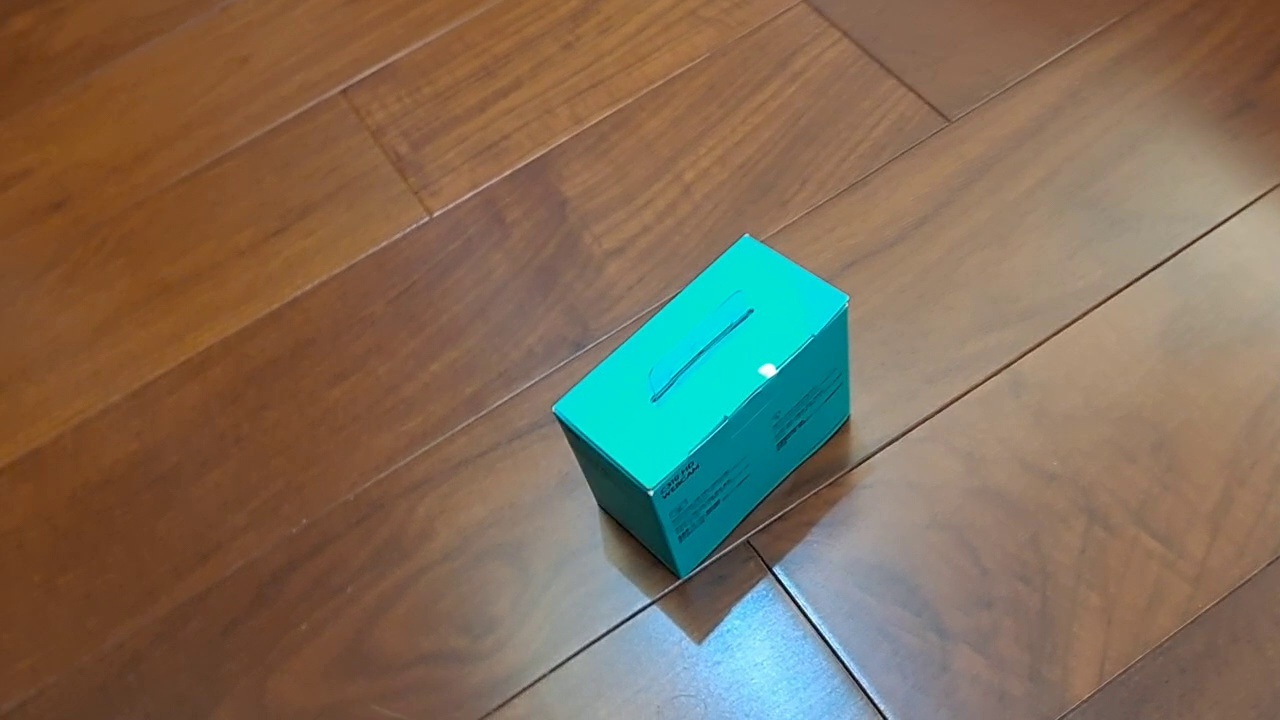webcam: (550, 231, 852, 581)
